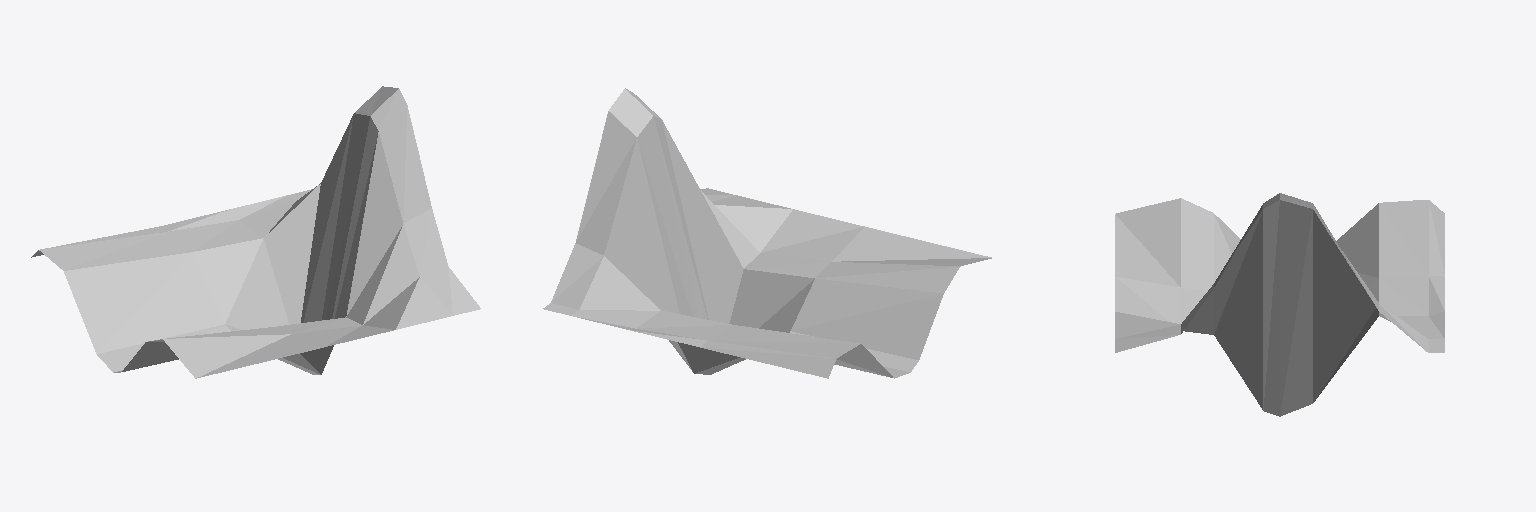
File: ter3.obj
3 views of the same model, side by side, from view 1: azimuth 30°, elevation 25°; view 2: azimuth 150°, elevation 25°; view 3: azimuth 270°, elevation 25° (orthographic).
Parts seen in each view (by area): view 1: ter3; view 2: ter3; view 3: ter3.
Boxes of the visible parts, x1=… form: ter3: x1=31, y1=86, x2=480, y2=378; ter3: x1=543, y1=88, x2=991, y2=378; ter3: x1=1115, y1=193, x2=1444, y2=416.
Bounding box in the file's own units: 500 × 444 × 500.